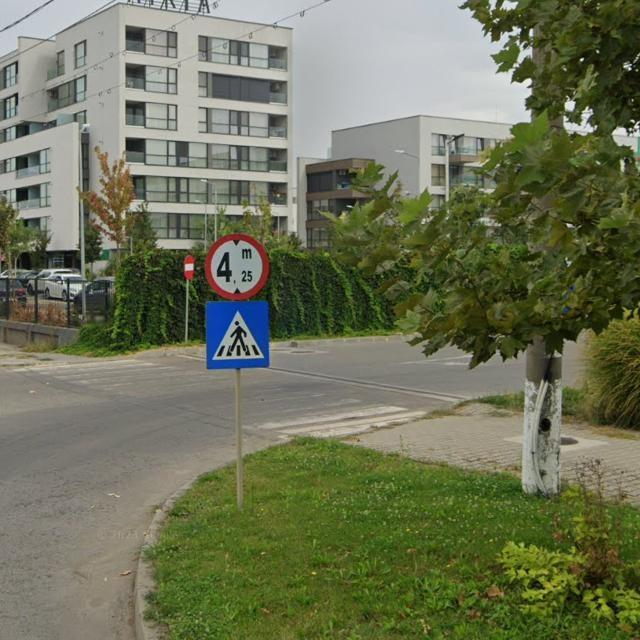info_crosswalk: (205, 300, 271, 369)
